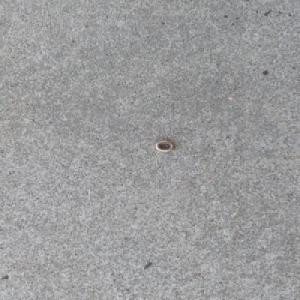Nut: (154, 140, 176, 152)
